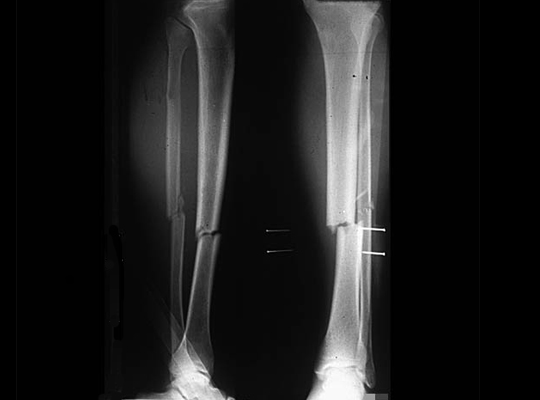fracture: (328, 219, 356, 235), (194, 227, 219, 238), (360, 203, 379, 214), (168, 209, 188, 217)
